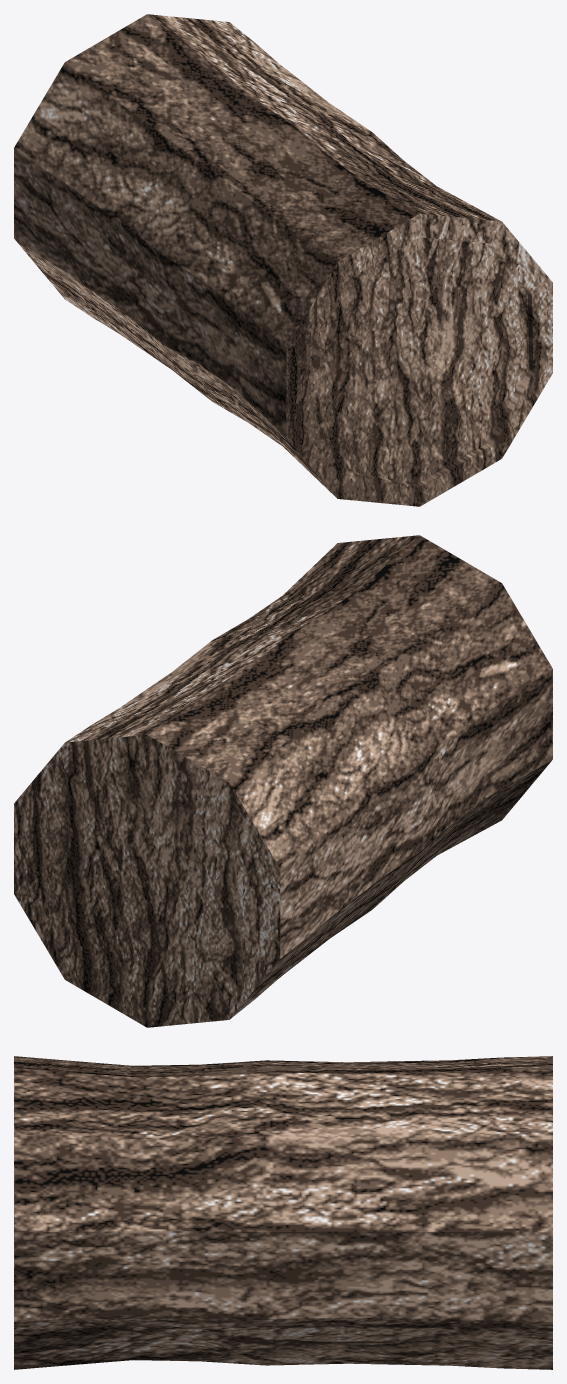
Rendered from log.fbx.
3 views of the same model, one above another, from view 1: azimuth 30°, elevation 25°; view 2: azimuth 150°, elevation 25°; view 3: azimuth 270°, elevation 25° (orthographic).
Visible parts, largest first — view 1: Cylinder; view 2: Cylinder; view 3: Cylinder.
Boxes of the visible parts, x1,y1,x2,y2 form: Cylinder: (14,14,552,506); Cylinder: (14,535,552,1027); Cylinder: (14,1056,552,1369).
Size of the model in its own units: 190 by 200 by 337.
1 material, 1 textured.
